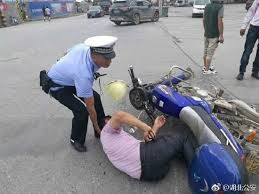fall: (97, 101, 207, 189)
